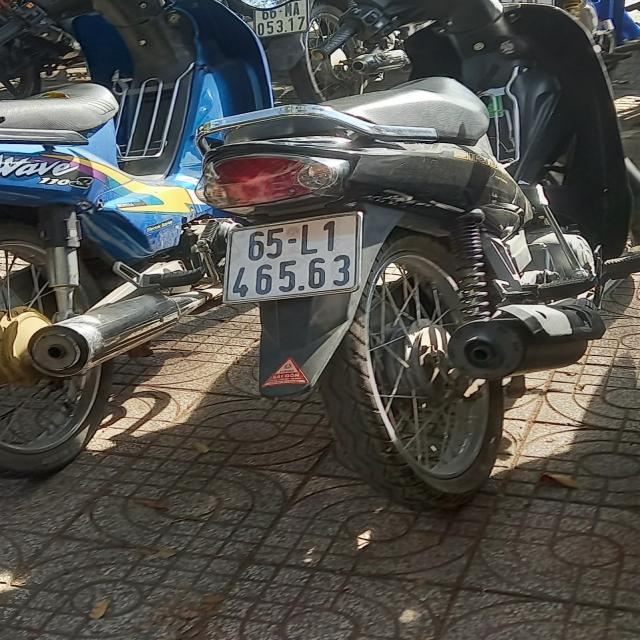1: (322, 220, 342, 251)
3: (333, 255, 354, 288)
4: (232, 265, 251, 299)
5: (279, 258, 296, 292), (266, 228, 283, 259)
6: (306, 257, 327, 290), (254, 263, 274, 297), (248, 230, 264, 260)
L: (300, 223, 320, 256)
